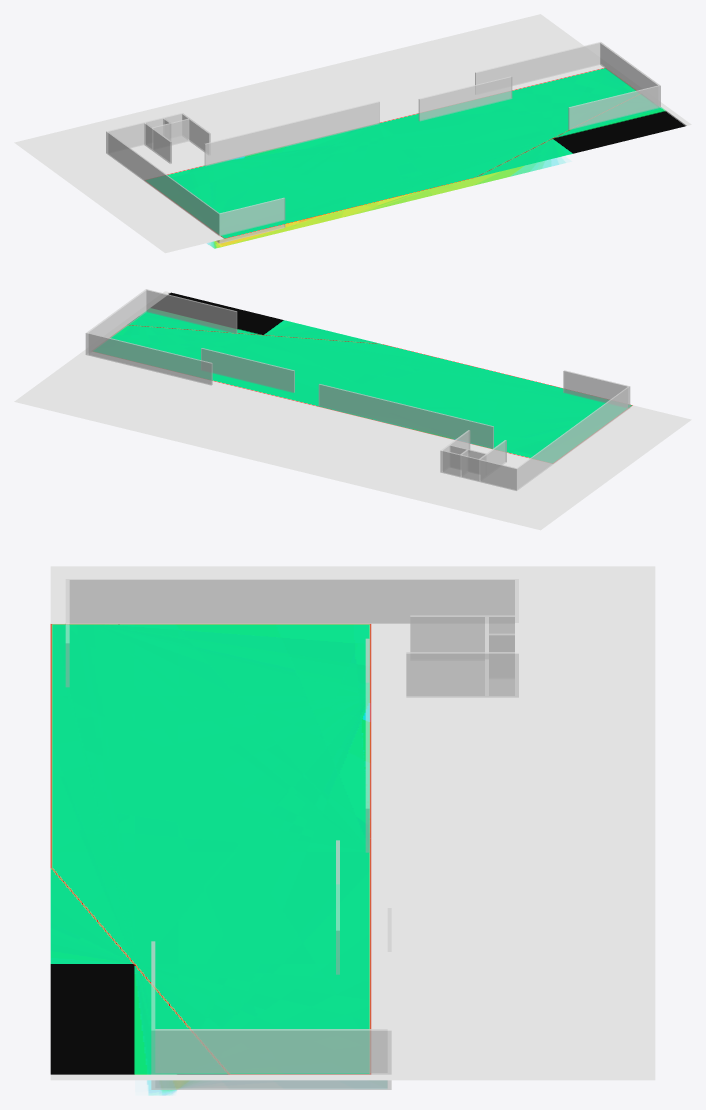
The picture shows the model from 3 angles, top to bottom: view 1: azimuth 30°, elevation 25°; view 2: azimuth 150°, elevation 25°; view 3: azimuth 270°, elevation 25°; orthographic projection. The views are drawn at different scales.
Visible parts, largest first — view 1: heatmap_2_balpav_max, Mesh_3, Mesh_2, Mesh_1, heatmap_2_balpav_color, Mesh_0; view 2: heatmap_2_balpav_max, Mesh_3, Mesh_2, Mesh_1, Mesh_0; view 3: heatmap_2_balpav_max, Mesh_3, Mesh_2, Mesh_1.
Boxes of the visible parts, x1=… form: heatmap_2_balpav_max: x1=14, y1=14, x2=691, y2=253; Mesh_3: x1=106, y1=113, x2=285, y2=243; Mesh_2: x1=475, y1=42, x2=660, y2=129; Mesh_1: x1=204, y1=101, x2=379, y2=166; heatmap_2_balpav_color: x1=207, y1=157, x2=565, y2=248; Mesh_0: x1=418, y1=76, x2=512, y2=121; heatmap_2_balpav_max: x1=14, y1=291, x2=691, y2=530; Mesh_3: x1=440, y1=370, x2=630, y2=490; Mesh_2: x1=85, y1=289, x2=237, y2=385; Mesh_1: x1=318, y1=384, x2=493, y2=448; Mesh_0: x1=201, y1=348, x2=294, y2=392; heatmap_2_balpav_max: x1=50, y1=566, x2=655, y2=1080; Mesh_3: x1=65, y1=579, x2=518, y2=697; Mesh_2: x1=151, y1=908, x2=391, y2=1089; Mesh_1: x1=365, y1=638, x2=369, y2=852.
Bounding box in the file's own units: 2.01 × 0.108 × 1.
6 materials, 2 textured.
